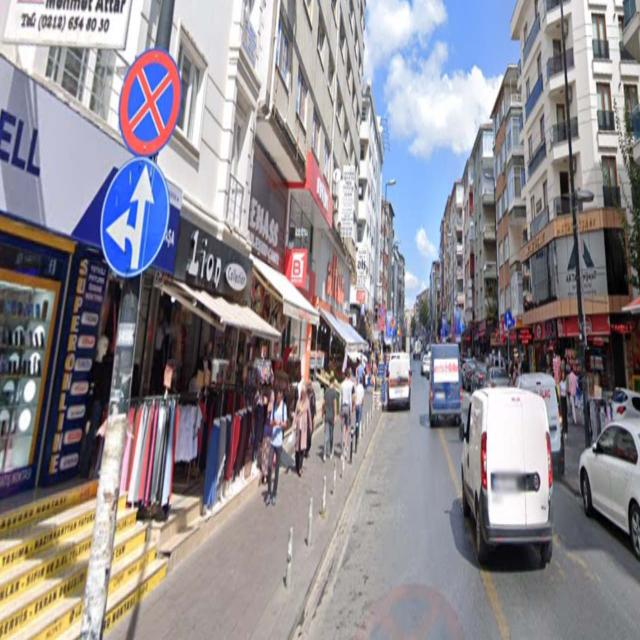ilerisag: (504, 310, 512, 328)
ilerisol: (100, 160, 172, 268)
